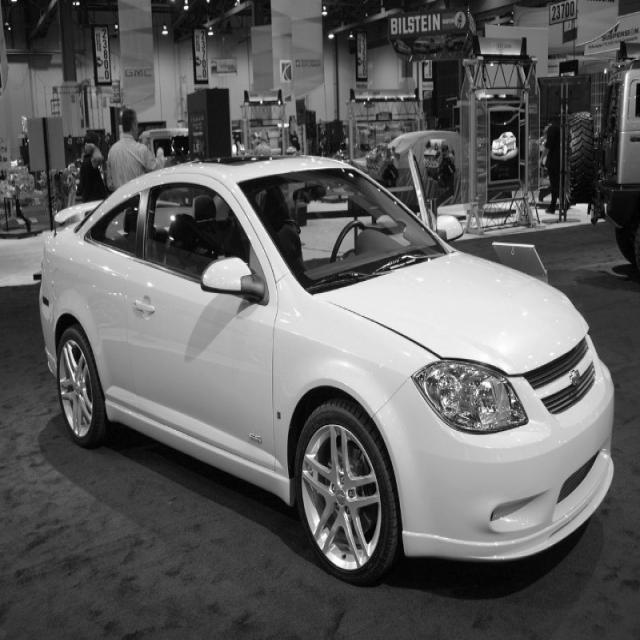car: (38, 151, 615, 586)
